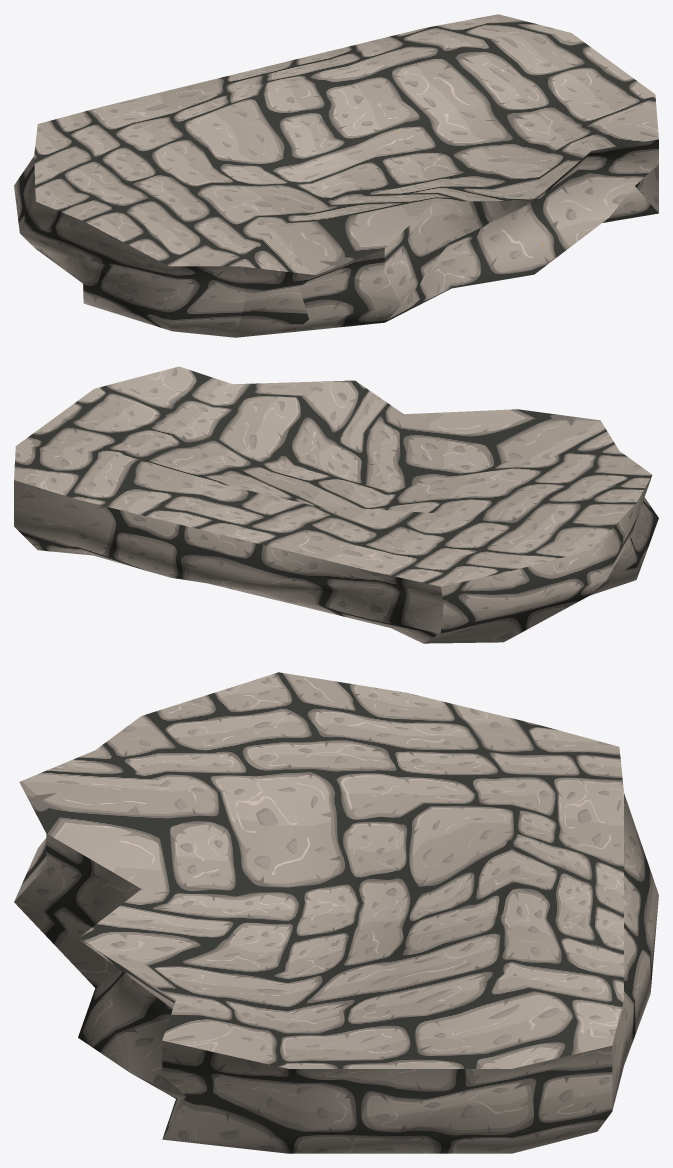
File: platform.fbx
3 renders of one model, top to bottom at view 1: azimuth 30°, elevation 25°; view 2: azimuth 150°, elevation 25°; view 3: azimuth 270°, elevation 25°, orthographic. The views are drawn at different scales.
Visible parts, largest first — view 1: platform_geo; view 2: platform_geo; view 3: platform_geo.
Part boxes in pixels (<box>): platform_geo: <box>14,14,658,337</box>; platform_geo: <box>14,366,658,643</box>; platform_geo: <box>14,672,658,1153</box>.
Bounding box in the file's own units: 68.07 × 12.18 × 47.14.
